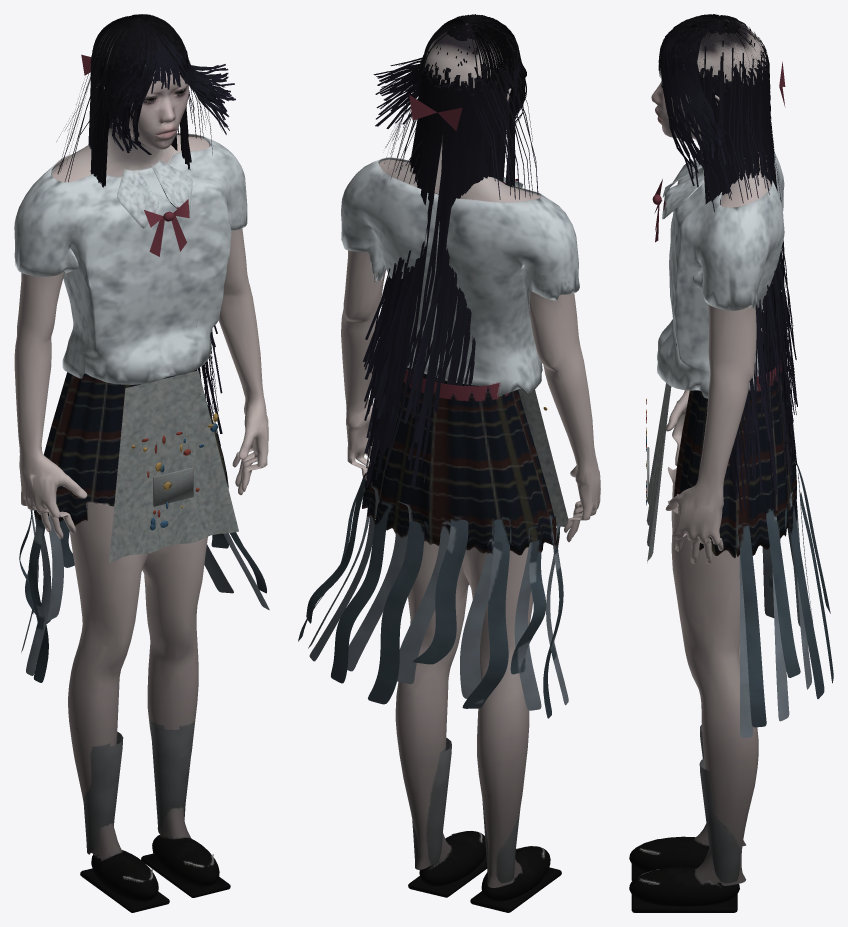
File: art.glb
3 renders of one model, left to right at view 1: azimuth 30°, elevation 25°; view 2: azimuth 150°, elevation 25°; view 3: azimuth 270°, elevation 25°, orthographic. The views are drawn at different scales.
Visible parts, largest first — view 1: GhostBody, GhostHair; view 2: GhostBody, GhostHair; view 3: GhostBody, GhostHair.
Boxes of the visible parts, x1,y1,x2,y2 form: GhostBody: (14, 27, 269, 912); GhostHair: (56, 14, 235, 445); GhostBody: (298, 22, 600, 912); GhostHair: (363, 14, 538, 487); GhostBody: (629, 19, 833, 912); GhostHair: (658, 14, 797, 518).
Bounding box in the file's own units: 0.5589 × 1.72 × 0.3654.
Materials: 2 (1 with a texture image).
